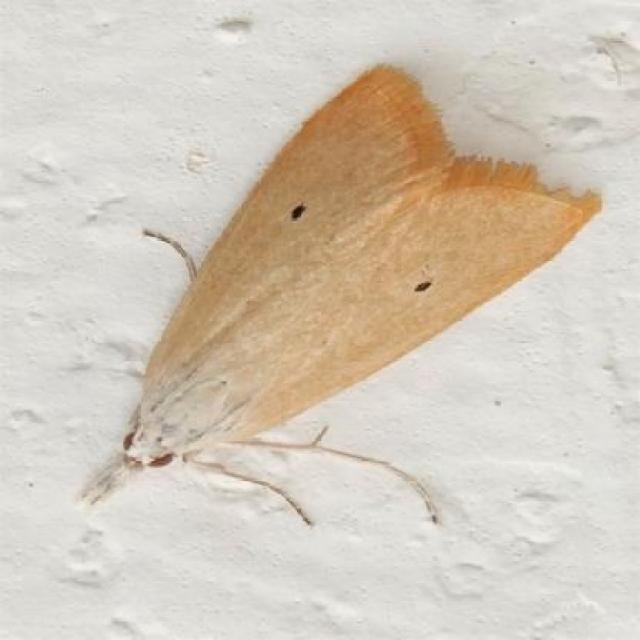stem-borer: (70, 65, 604, 526)
